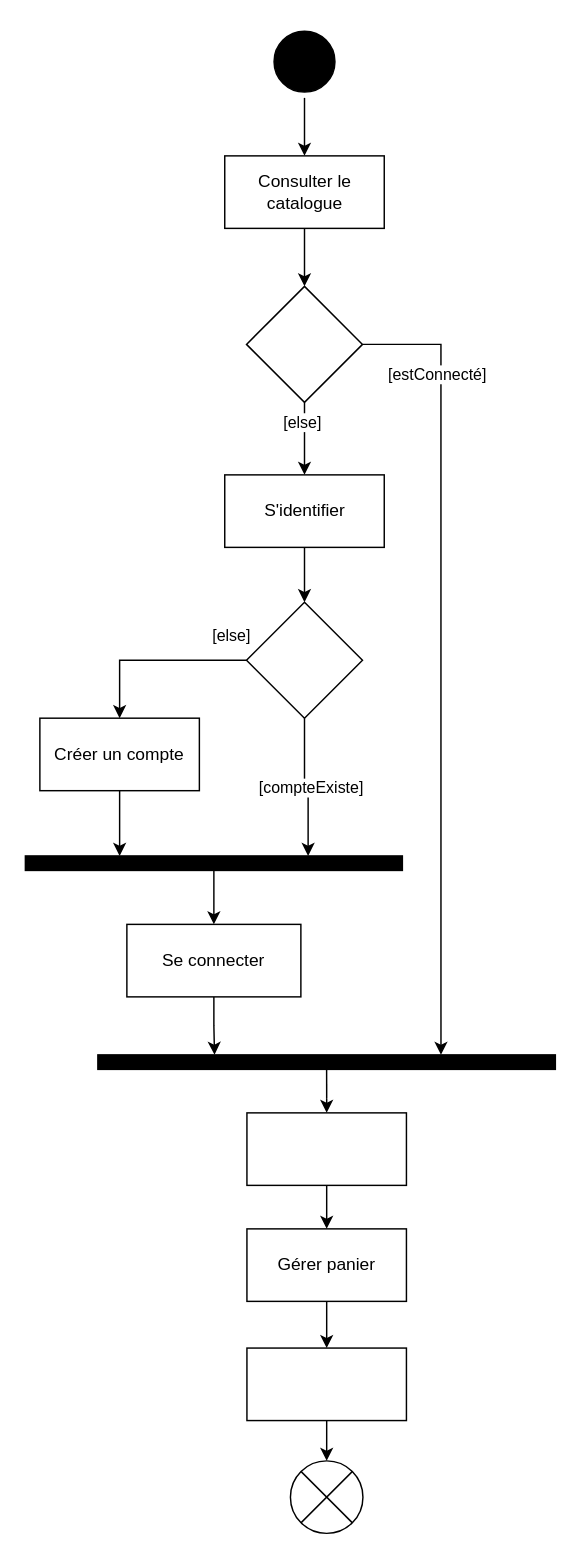
Some shapes in this 581 by 1559 pixel diagram are drawn without their labels. Here are the shapes that lost their labels. From the top down, the centre of each, then its label:
pixel 325 1148: Ajouter un article
pixel 325 1384: Effectuer achat
